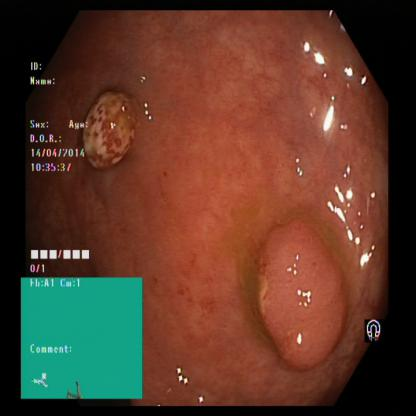Labels: (22, 275, 140, 399), (27, 53, 89, 272), (361, 313, 387, 347)
Polyps: (246, 230, 346, 368), (84, 96, 143, 162)
